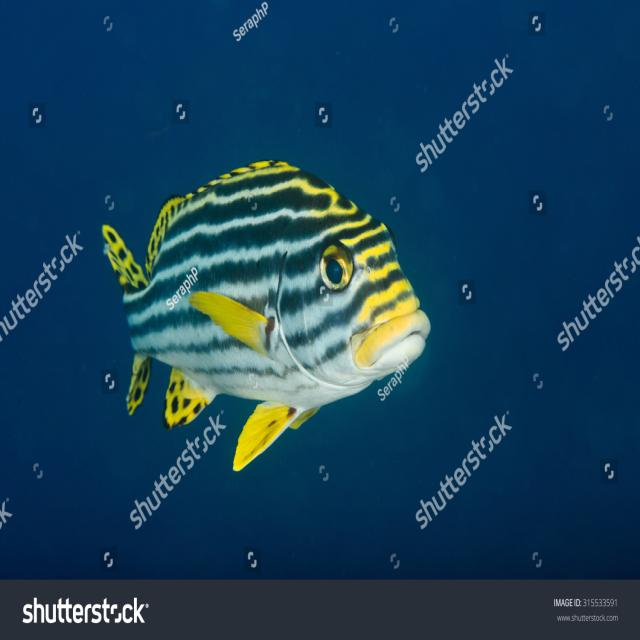RibbonedSweetlips: (101, 157, 431, 472)
